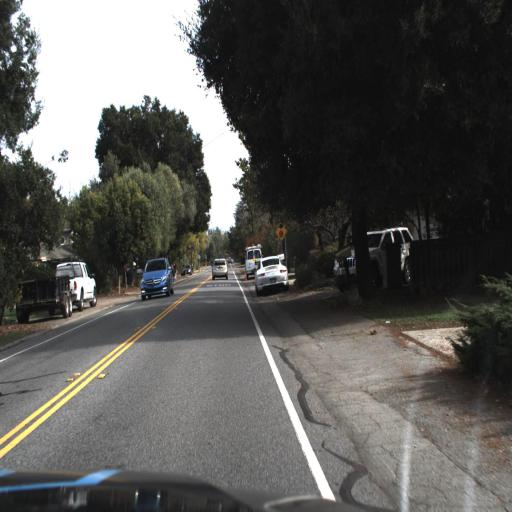car: (333, 223, 425, 300), (16, 256, 97, 322), (137, 256, 177, 300), (250, 255, 289, 297), (244, 241, 262, 270), (209, 256, 229, 282)
